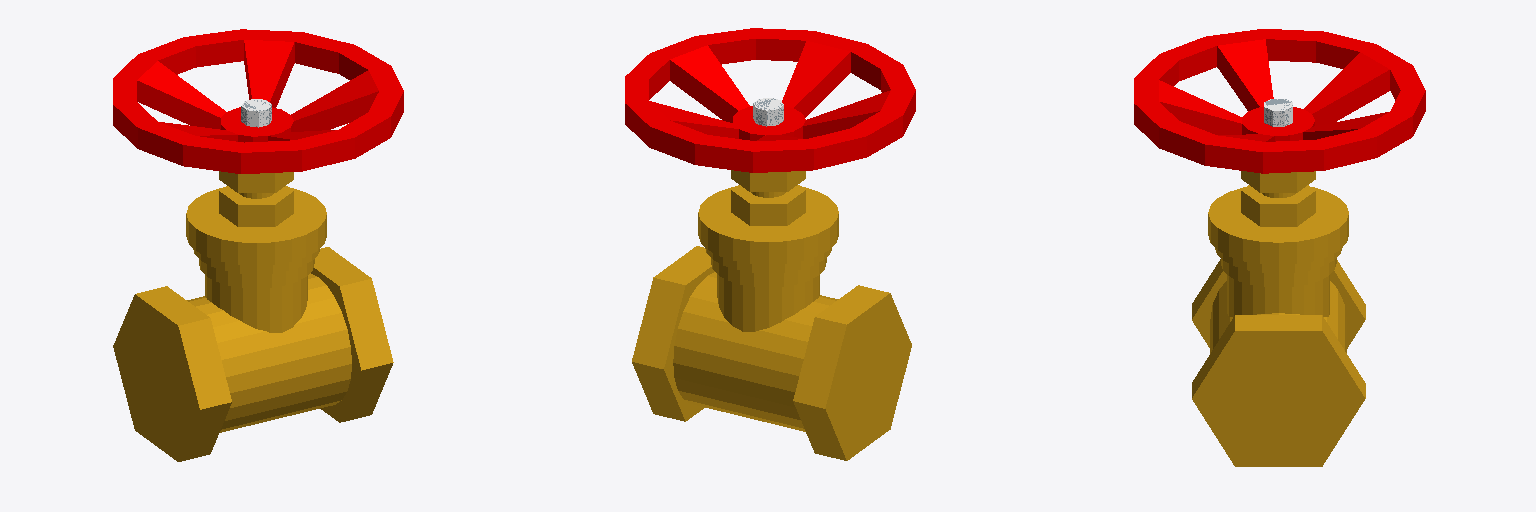
Rendered from Valve3.obj.
The picture shows the model from 3 angles: view 1: azimuth 30°, elevation 25°; view 2: azimuth 150°, elevation 25°; view 3: azimuth 270°, elevation 25°; orthographic projection.
Visible parts, largest first — view 1: Mesh4 Group5 Group3 Group1 Model, Mesh2 FS_Handlebase1_D400_1 Group2 Group1 Model, Mesh3 Group4 Group3 Group1 Model, Mesh1 FS_spindlebase_8R100H100_1 Group2 Group1 Model; view 2: Mesh4 Group5 Group3 Group1 Model, Mesh2 FS_Handlebase1_D400_1 Group2 Group1 Model, Mesh3 Group4 Group3 Group1 Model, Mesh1 FS_spindlebase_8R100H100_1 Group2 Group1 Model; view 3: Mesh2 FS_Handlebase1_D400_1 Group2 Group1 Model, Mesh4 Group5 Group3 Group1 Model, Mesh3 Group4 Group3 Group1 Model, Mesh1 FS_spindlebase_8R100H100_1 Group2 Group1 Model.
Boxes of the visible parts, box(x1,y1,x2,y2) form: Mesh4 Group5 Group3 Group1 Model: box(113, 247, 393, 461); Mesh2 FS_Handlebase1_D400_1 Group2 Group1 Model: box(113, 29, 403, 173); Mesh3 Group4 Group3 Group1 Model: box(186, 171, 326, 332); Mesh1 FS_spindlebase_8R100H100_1 Group2 Group1 Model: box(241, 99, 271, 127); Mesh4 Group5 Group3 Group1 Model: box(632, 246, 911, 460); Mesh2 FS_Handlebase1_D400_1 Group2 Group1 Model: box(625, 28, 915, 172); Mesh3 Group4 Group3 Group1 Model: box(698, 170, 838, 331); Mesh1 FS_spindlebase_8R100H100_1 Group2 Group1 Model: box(753, 98, 783, 126); Mesh2 FS_Handlebase1_D400_1 Group2 Group1 Model: box(1134, 29, 1425, 173); Mesh4 Group5 Group3 Group1 Model: box(1192, 259, 1365, 466); Mesh3 Group4 Group3 Group1 Model: box(1208, 171, 1348, 316); Mesh1 FS_spindlebase_8R100H100_1 Group2 Group1 Model: box(1264, 99, 1292, 126).
Bounding box in the file's own units: 120 × 150 × 119.